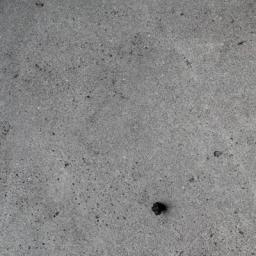FOD: (151, 202, 170, 218)
